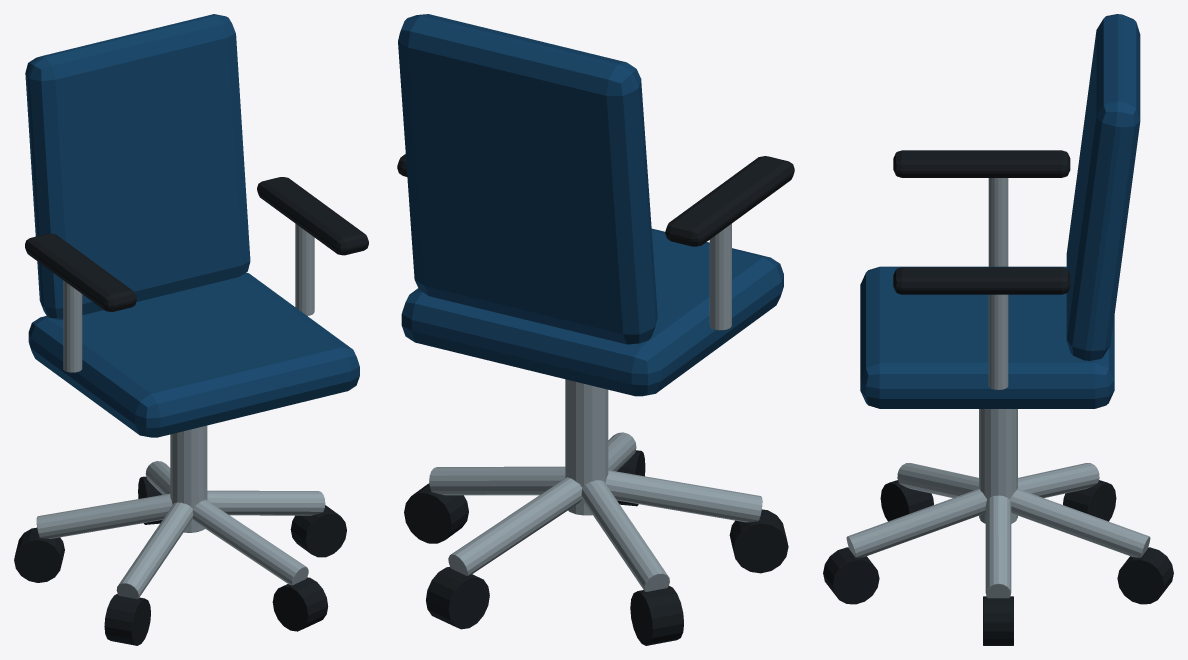
3 views of the same model, side by side, from view 1: azimuth 30°, elevation 25°; view 2: azimuth 150°, elevation 25°; view 3: azimuth 270°, elevation 25° (orthographic). The views are drawn at different scales.
Visible parts, largest first — view 1: BACK_Cushion, SEAT_Cushion, ARM_Pad.001, ARM_Pad, BASE_Spoke.003, BASE_Spoke, GAS_Lift, BASE_Spoke.001, BASE_Spoke.004, CASTER_Wheel, CASTER_Wheel.003, CASTER_Wheel.001 (+4 smaller); view 2: BACK_Cushion, SEAT_Cushion, ARM_Pad.001, GAS_Lift, BASE_Spoke.004, BASE_Spoke.002, BASE_Spoke.001, BASE_Spoke.003, CASTER_Wheel.002, CASTER_Wheel.004, CASTER_Wheel.001, CASTER_Wheel.003 (+2 smaller); view 3: SEAT_Cushion, BACK_Cushion, ARM_Pad.001, ARM_Pad, BASE_Spoke.002, BASE_Spoke, GAS_Lift, BASE_Spoke.001, CASTER_Wheel.002, CASTER_Wheel, ARM_Post, BASE_Spoke.003 (+5 smaller).
Part boxes in pixels (<box>): BACK_Cushion: <box>25,14,250,319</box>; SEAT_Cushion: <box>28,272,359,437</box>; ARM_Pad.001: <box>25,233,136,311</box>; ARM_Pad: <box>257,177,368,255</box>; BASE_Spoke.003: <box>36,493,172,538</box>; BASE_Spoke: <box>193,499,308,585</box>; GAS_Lift: <box>170,425,207,532</box>; BASE_Spoke.001: <box>207,490,325,515</box>; BASE_Spoke.004: <box>116,502,193,599</box>; CASTER_Wheel: <box>272,577,328,631</box>; CASTER_Wheel.003: <box>14,527,64,582</box>; CASTER_Wheel.001: <box>290,505,346,557</box>; BACK_Cushion: <box>398,14,657,344</box>; SEAT_Cushion: <box>401,228,783,396</box>; ARM_Pad.001: <box>665,156,794,246</box>; GAS_Lift: <box>565,379,608,515</box>; BASE_Spoke.004: <box>605,470,762,522</box>; BASE_Spoke.002: <box>448,477,581,575</box>; BASE_Spoke.001: <box>429,466,565,495</box>; BASE_Spoke.003: <box>581,480,669,591</box>; CASTER_Wheel.002: <box>426,567,489,629</box>; CASTER_Wheel.004: <box>729,509,788,573</box>; CASTER_Wheel.001: <box>404,483,468,543</box>; CASTER_Wheel.003: <box>630,586,683,645</box>; SEAT_Cushion: <box>860,266,1114,408</box>; BACK_Cushion: <box>1066,14,1140,360</box>; ARM_Pad.001: <box>893,150,1070,177</box>; ARM_Pad: <box>893,267,1070,294</box>; BASE_Spoke.002: <box>1010,488,1150,557</box>; BASE_Spoke: <box>846,488,986,557</box>; GAS_Lift: <box>979,409,1017,523</box>; BASE_Spoke.001: <box>985,495,1011,598</box>; CASTER_Wheel.002: <box>1117,547,1173,604</box>; CASTER_Wheel: <box>823,547,879,604</box>; ARM_Post: <box>988,294,1008,389</box>; BASE_Spoke.003: <box>1018,463,1099,497</box>.
Size of the model in its own units: 0.61 by 1.04 by 0.6349.
